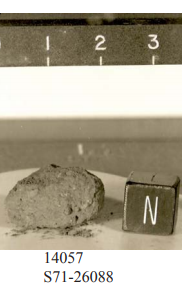Breccia: (11, 141, 100, 213)
